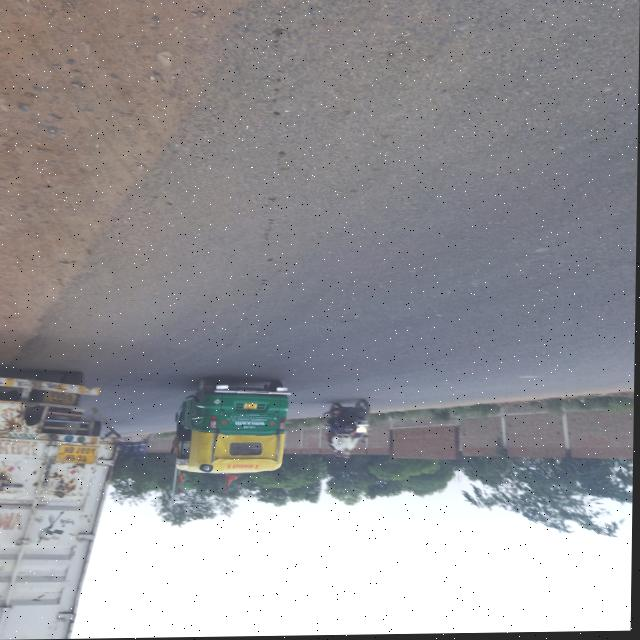plate: (57, 444, 103, 466)
